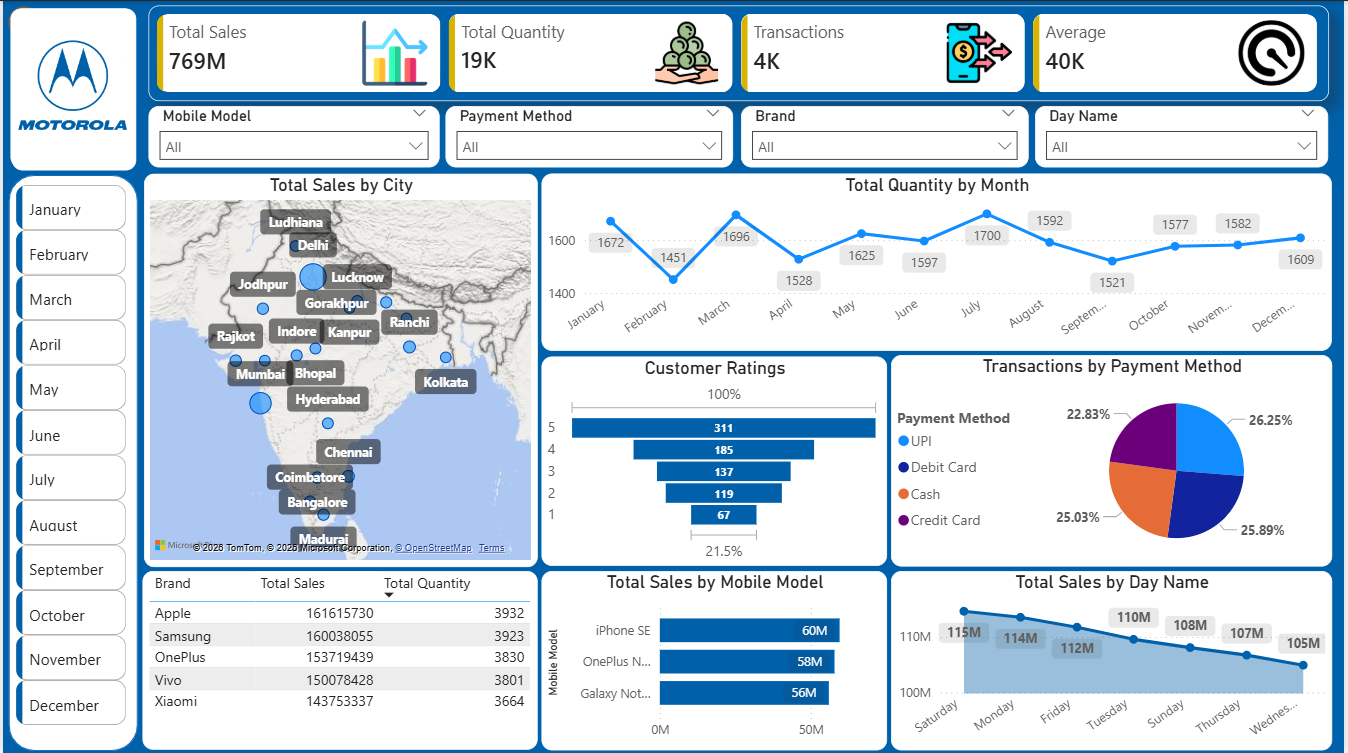

The dashboard page shown, as its layout file describes it:
{"tool":"powerbi","page":{"name":"Page 1","canvas":[1280,720],"ordinal":0},"visuals":[{"type":"shape","box":[8.1,6.5,118.7,154.5],"z":0,"group":"g1"},{"type":"shape","box":[0,165.9,133.4,555],"z":0},{"type":"image","box":[6.5,6.5,118.8,152.1],"z":1000,"group":"g1"},{"type":"advancedSlicerVisual","fields":{"Values":["Sales_Data.Date.Variation.Date Hierarchy.Month"]},"box":[6.5,150.7,115.5,569.3],"z":1000},{"type":"cardVisual","fields":{"Data":["Sales_Data.Total Sales","Sales_Data.Total Quantity","Sales_Data.Transactions","Sales_Data.Average"]},"box":[138.3,4.9,1127.2,91.1],"z":2000},{"type":"map","fields":{"Category":["Sales_Data.City"],"Size":["Sales_Data.Total Sales"]},"box":[135,164.3,375.7,375.7],"z":3000},{"type":"lineChart","fields":{"Category":["Sales_Data.Date.Variation.Date Hierarchy.Month","Sales_Data.Date.Variation.Date Hierarchy.Day"],"Y":["Sales_Data.Total Quantity"]},"box":[514,164.3,754.7,169.2],"z":4000},{"type":"clusteredBarChart","fields":{"Category":["Sales_Data.Mobile Model"],"Y":["Sales_Data.Total Sales"]},"box":[514,544.9,330.2,171],"z":5000},{"type":"pieChart","fields":{"Category":["Sales_Data.Payment Method"],"Y":["Sales_Data.Transactions"]},"box":[847.4,338.3,421.3,201.7],"z":6000},{"type":"funnel","title":"Customer Ratings","fields":{"Category":["Sales_Data.Customer Ratings"],"Y":["CountNonNull(Sales_Data.Customer Ratings)"]},"box":[514,340,330,200],"z":7000},{"type":"areaChart","fields":{"Category":["Sales_Data.Day Name"],"Y":["Sales_Data.Total Sales"]},"box":[847.4,544.9,421.3,171],"z":8000},{"type":"tableEx","fields":{"Values":["Sales_Data.Brand","Sales_Data.Total Sales","Sales_Data.Total Quantity"]},"box":[133.4,544.9,377.4,170.8],"z":9000},{"type":"actionButton","box":[0,0,100,40],"z":10000},{"type":"slicer","fields":{"Values":["Sales_Data.Mobile Model"]},"box":[138.3,100.8,278.1,58.6],"z":11000},{"type":"slicer","fields":{"Values":["Sales_Data.Payment Method"]},"box":[422.9,100.8,274.9,58.6],"z":12000},{"type":"slicer","fields":{"Values":["Sales_Data.Brand"]},"box":[704.3,100.8,274.9,58.6],"z":13000},{"type":"slicer","fields":{"Values":["Sales_Data.Day Name"]},"box":[985.7,100.8,280,58.6],"z":14000},{"type":"group","id":"g1","title":"Group 1","box":[6.5,6.5,120.4,154.5],"z":15000}]}

Visuals, with their boxes in screenshot pixels (x1, y1, x2, y2), scaled from the page's 1280x720 canvas onto the 1348x753 screenshot:
shape: {"left": 9, "top": 7, "right": 134, "bottom": 168}
shape: {"left": 0, "top": 174, "right": 140, "bottom": 752}
image: {"left": 7, "top": 7, "right": 132, "bottom": 166}
advancedSlicerVisual - Sales_Data.Date.Variation.Date Hierarchy.Month: {"left": 7, "top": 158, "right": 128, "bottom": 752}
cardVisual - Sales_Data.Total Sales x Sales_Data.Total Quantity: {"left": 146, "top": 5, "right": 1333, "bottom": 100}
map - Sales_Data.City x Sales_Data.Total Sales: {"left": 142, "top": 172, "right": 538, "bottom": 565}
lineChart - Sales_Data.Date.Variation.Date Hierarchy.Month x Sales_Data.Date.Variation.Date Hierarchy.Day: {"left": 541, "top": 172, "right": 1336, "bottom": 349}
clusteredBarChart - Sales_Data.Mobile Model x Sales_Data.Total Sales: {"left": 541, "top": 570, "right": 889, "bottom": 749}
pieChart - Sales_Data.Payment Method x Sales_Data.Transactions: {"left": 892, "top": 354, "right": 1336, "bottom": 565}
"Customer Ratings" funnel: {"left": 541, "top": 356, "right": 889, "bottom": 565}
areaChart - Sales_Data.Day Name x Sales_Data.Total Sales: {"left": 892, "top": 570, "right": 1336, "bottom": 749}
tableEx - Sales_Data.Brand x Sales_Data.Total Sales: {"left": 140, "top": 570, "right": 538, "bottom": 749}
actionButton: {"left": 0, "top": 0, "right": 105, "bottom": 42}
slicer - Sales_Data.Mobile Model: {"left": 146, "top": 105, "right": 439, "bottom": 167}
slicer - Sales_Data.Payment Method: {"left": 445, "top": 105, "right": 735, "bottom": 167}
slicer - Sales_Data.Brand: {"left": 742, "top": 105, "right": 1031, "bottom": 167}
slicer - Sales_Data.Day Name: {"left": 1038, "top": 105, "right": 1333, "bottom": 167}
"Group 1" group: {"left": 7, "top": 7, "right": 134, "bottom": 168}
